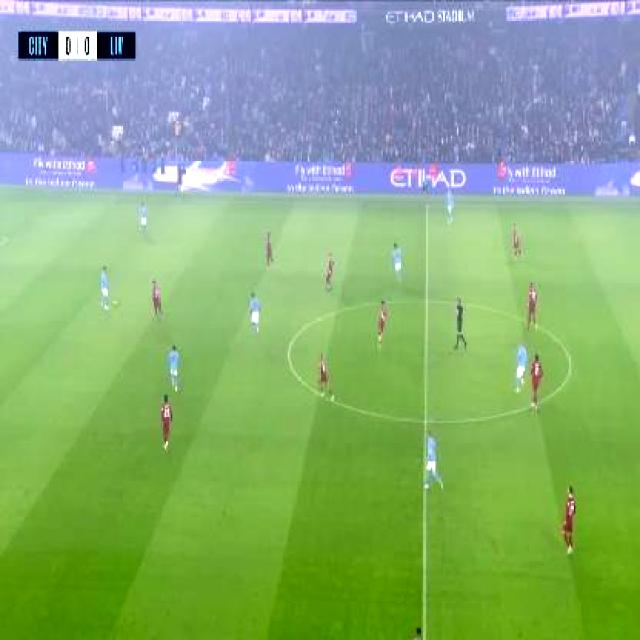bigarea_top_inner: (0, 227, 15, 249)
halfcircle_bottom: (412, 404, 437, 436)
halfcircle_top: (416, 286, 436, 311)
midline_top_intersection: (420, 194, 435, 215)
